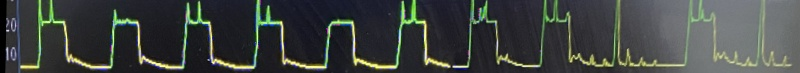hydrop_pressure: (0, 0, 800, 73)
